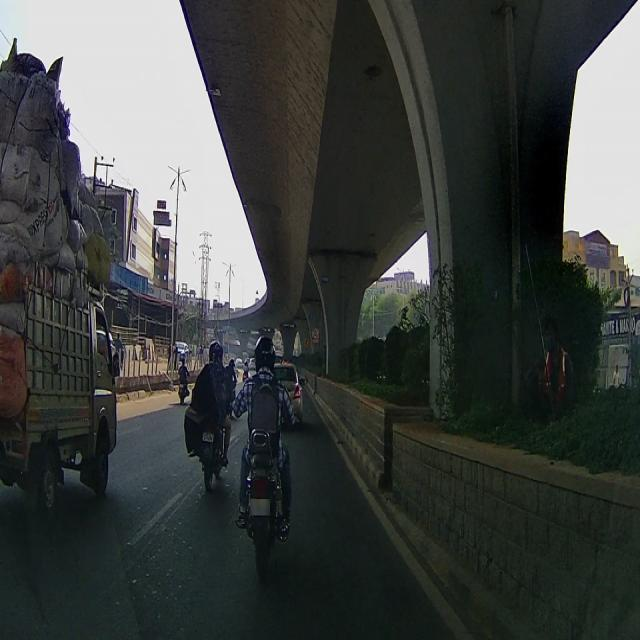left-hand-curve: (305, 337, 309, 347)
